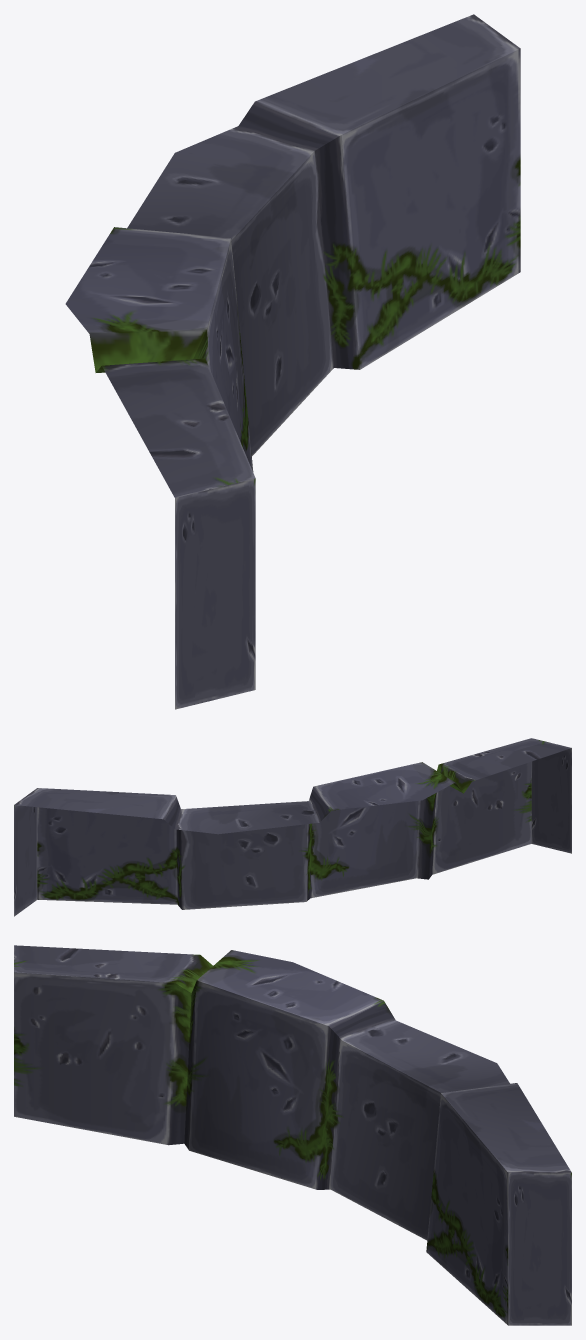
Rendered from MOD_WallTrim_01_M_concave_1_2.fbx.
The picture shows the model from 3 angles, top to bottom: view 1: azimuth 30°, elevation 25°; view 2: azimuth 150°, elevation 25°; view 3: azimuth 270°, elevation 25°; orthographic projection. The views are drawn at different scales.
Parts seen in each view (by area): view 1: MOD_WallTrim_01_M_concave_1_2; view 2: MOD_WallTrim_01_M_concave_1_2; view 3: MOD_WallTrim_01_M_concave_1_2.
Boxes of the visible parts, <box> form: MOD_WallTrim_01_M_concave_1_2: <box>65,14,520,709</box>; MOD_WallTrim_01_M_concave_1_2: <box>14,738,571,916</box>; MOD_WallTrim_01_M_concave_1_2: <box>14,945,571,1325</box>.
Size of what is drawn, in the model's own units: 175 by 56.94 by 175.
